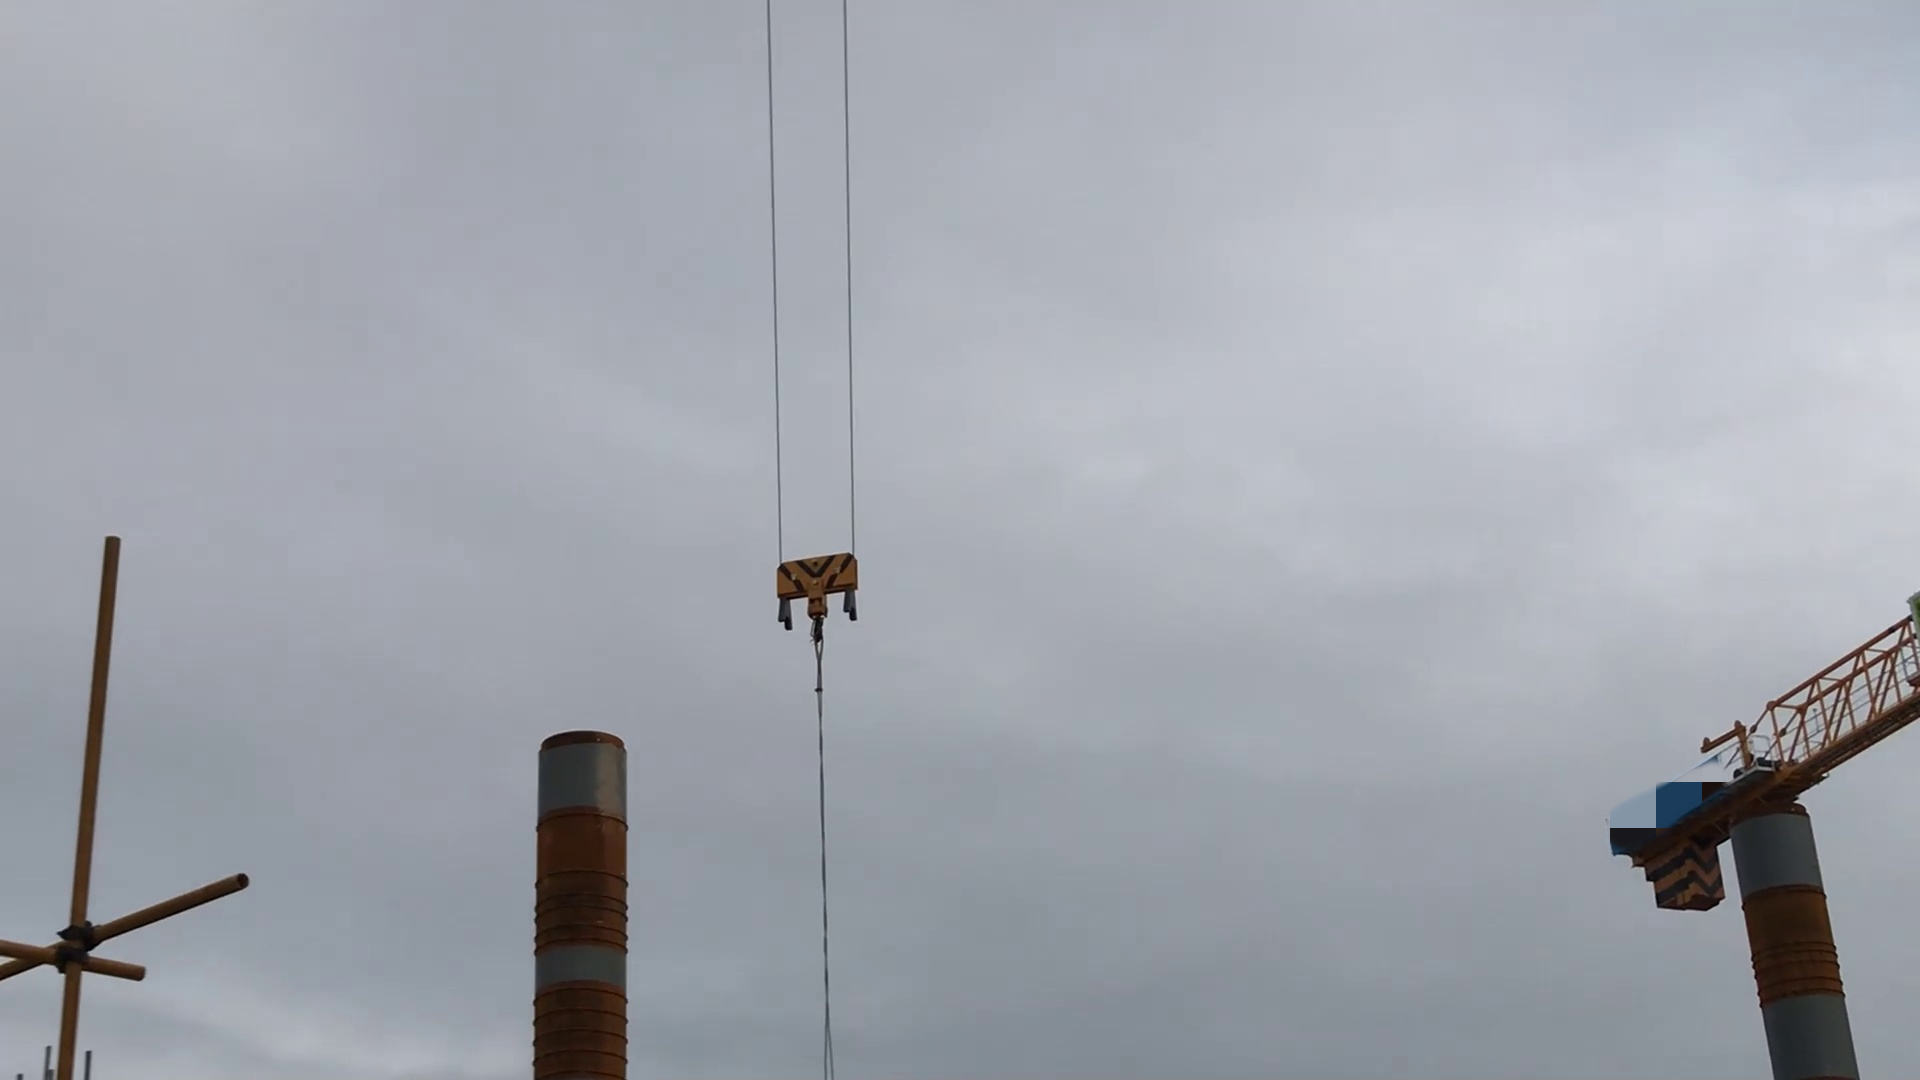hook: (766, 545, 865, 655)
